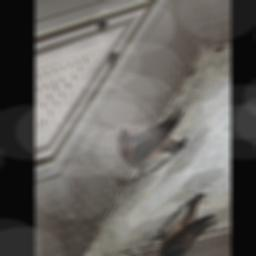Swallow: (113, 82, 193, 193)
